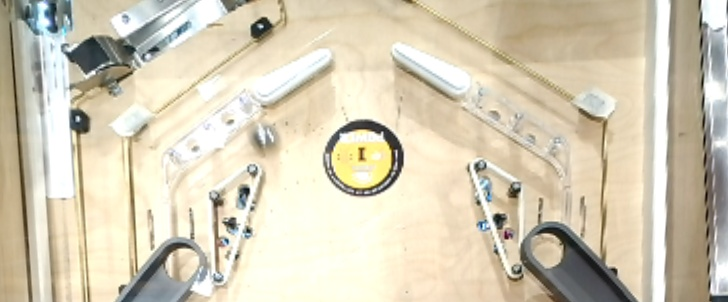ball: (249, 123, 279, 157)
flipper-left: (388, 42, 475, 102)
flipper-right: (252, 43, 333, 109)
